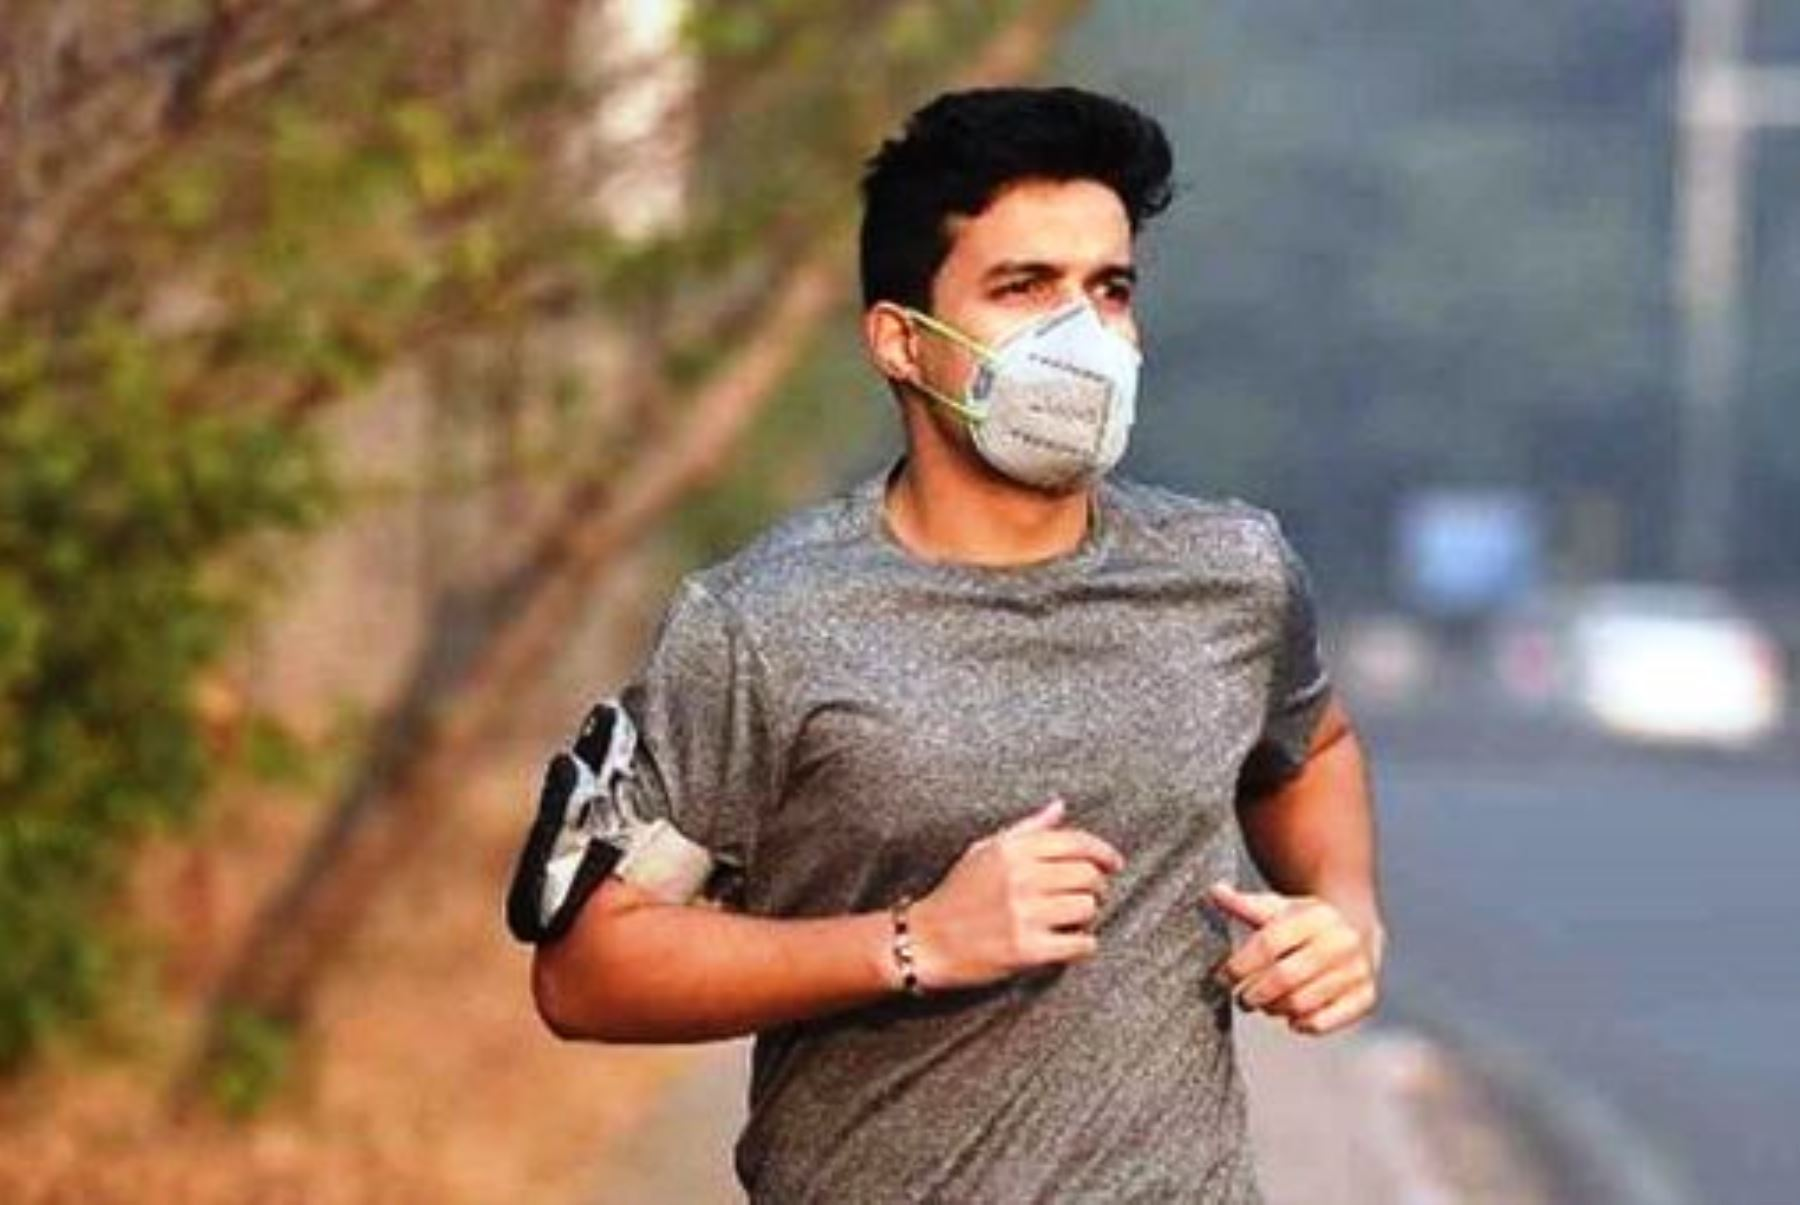with_mask: (875, 137, 1171, 485)
